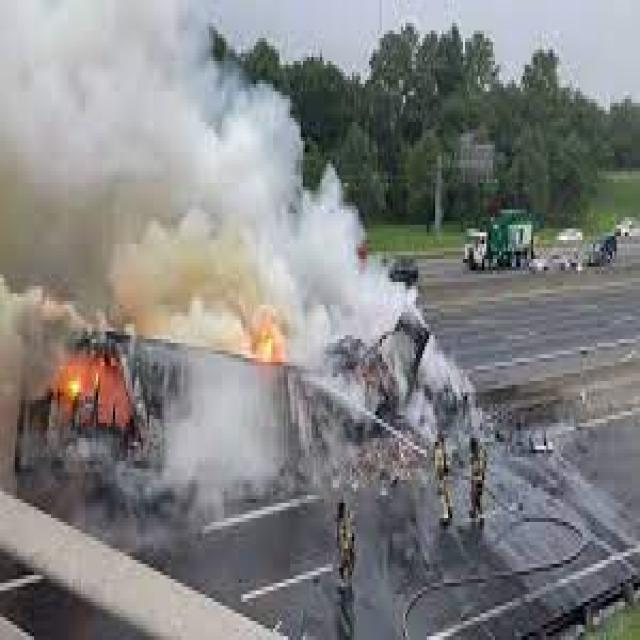smoke: (2, 4, 427, 358), (64, 370, 279, 534), (407, 347, 495, 442)
